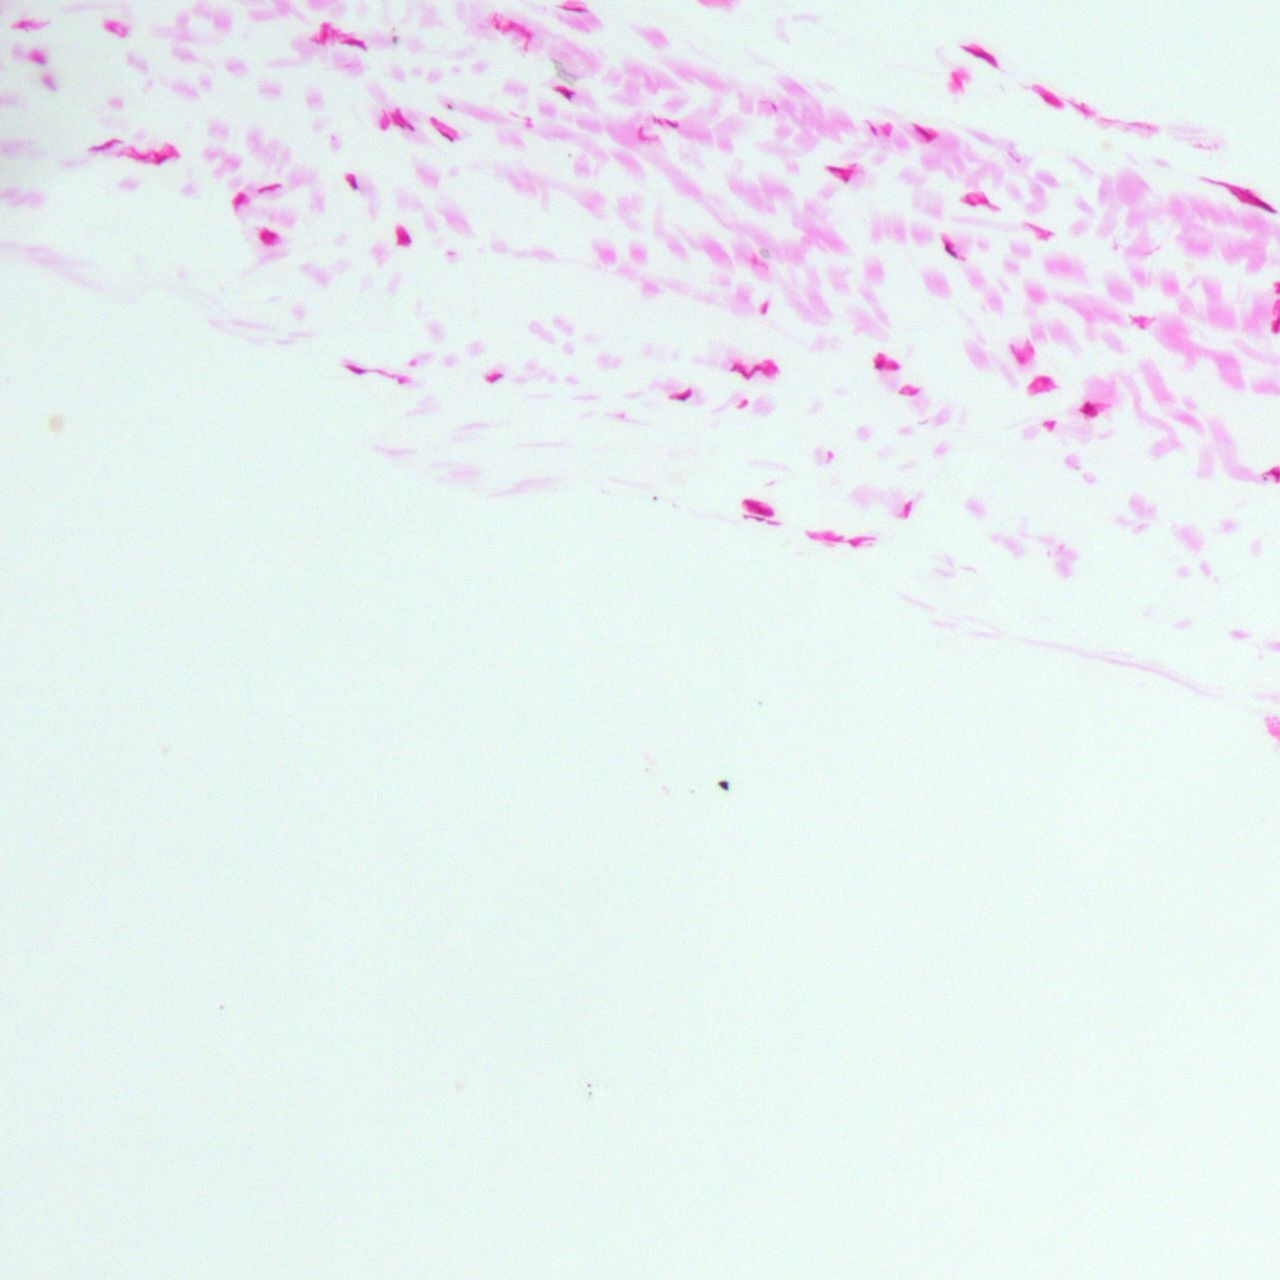dust: (549, 57, 579, 86), (760, 246, 772, 261), (719, 779, 731, 791), (218, 1003, 225, 1012), (445, 103, 452, 110), (392, 35, 397, 43), (587, 1090, 593, 1097), (652, 495, 658, 501), (585, 1082, 592, 1085), (567, 154, 572, 157)
nucleus-FG: (343, 360, 407, 384), (964, 40, 1003, 70), (738, 493, 778, 519), (740, 511, 785, 527), (88, 136, 123, 154), (393, 108, 416, 132), (938, 236, 960, 261), (668, 386, 696, 404), (910, 120, 933, 142), (1024, 220, 1056, 237), (730, 361, 760, 379), (808, 532, 846, 545), (1037, 91, 1062, 111), (509, 19, 533, 38), (434, 123, 455, 143), (849, 532, 870, 549), (340, 38, 367, 49), (1069, 101, 1092, 114), (1029, 375, 1051, 388), (964, 196, 990, 205), (556, 84, 573, 98), (824, 162, 845, 173), (865, 120, 879, 137), (1130, 315, 1145, 331), (104, 23, 121, 38), (396, 227, 410, 244), (154, 154, 171, 166), (346, 173, 359, 191), (231, 191, 243, 210), (1081, 403, 1097, 416), (486, 373, 506, 383), (259, 183, 281, 192), (393, 116, 406, 131), (903, 499, 912, 519), (872, 360, 887, 372), (379, 115, 389, 131), (559, 6, 588, 12), (757, 300, 769, 314), (1014, 349, 1024, 365), (898, 388, 920, 395), (321, 22, 328, 43), (665, 118, 679, 129), (15, 20, 30, 29), (1044, 420, 1055, 431), (259, 230, 268, 243), (30, 56, 45, 64), (840, 175, 851, 185), (266, 231, 278, 240), (132, 154, 147, 159), (651, 116, 661, 123)
